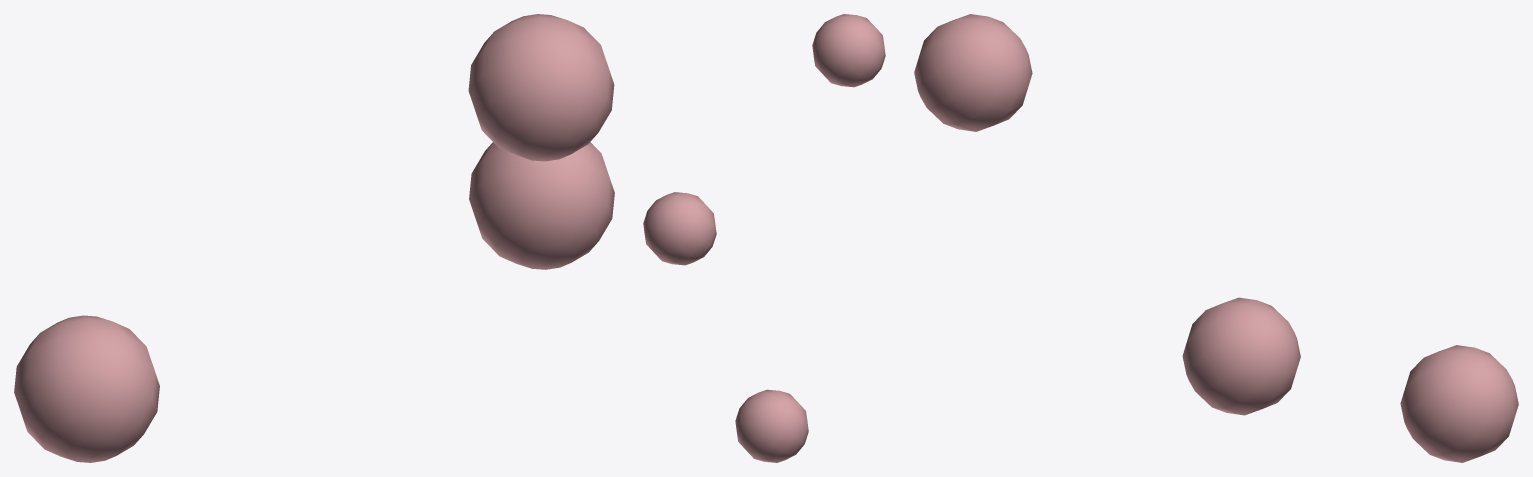
The picture shows the model from 3 angles, left to right: view 1: azimuth 30°, elevation 25°; view 2: azimuth 150°, elevation 25°; view 3: azimuth 270°, elevation 25°; orthographic projection. The views are drawn at different scales.
Parts seen in each view (by area): view 1: ZA_0aa9439e0bddb15d; view 2: ZA_0aa9439e0bddb15d; view 3: ZA_0aa9439e0bddb15d.
Part boxes in pixels (left/top/right/bottom): ZA_0aa9439e0bddb15d: left=14, top=14, right=614, bottom=462; ZA_0aa9439e0bddb15d: left=643, top=14, right=885, bottom=462; ZA_0aa9439e0bddb15d: left=914, top=14, right=1518, bottom=462.
Bounding box in the file's own units: 0.00901 × 0.012 × 0.0133.
